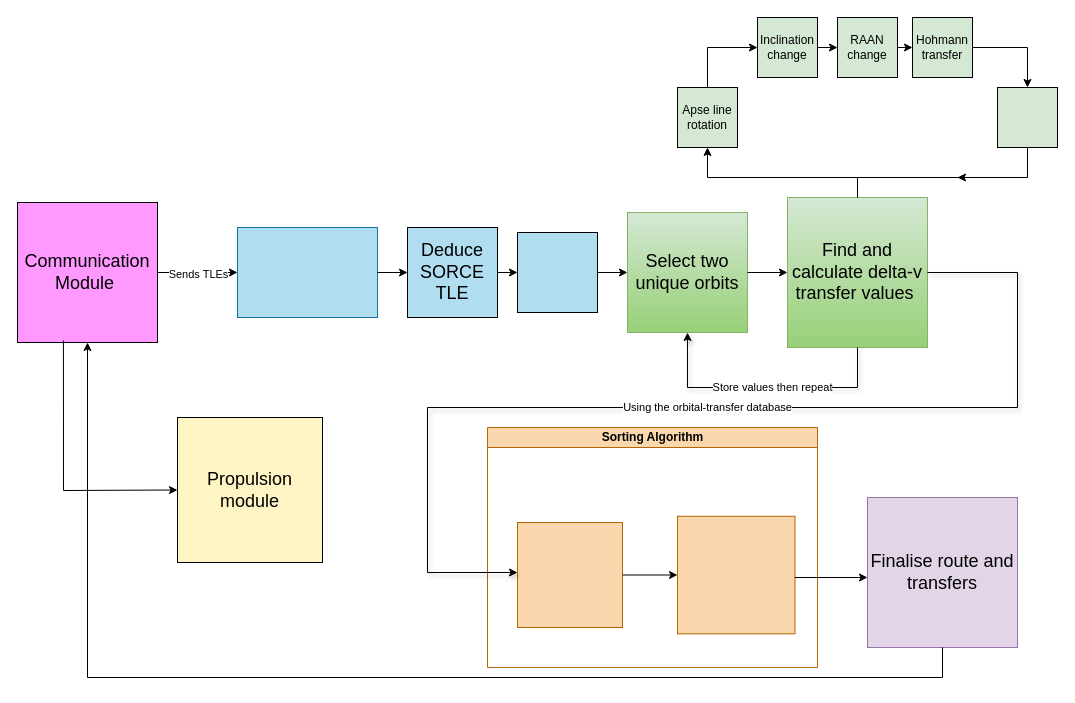
Image size: 1075x703. Some labels were removed from this diagram. The centre of each missing label's shape, as x and y in pixels:
"Deduce Hubble Space Telescope TLE" goes at (307,272).
"Deduce Terra TLE" goes at (557,272).
"Find all possible routes" goes at (569,575).
"Phasing transfer" goes at (1027,117).
"Select Route with least amount of delta-v" goes at (735,574).
